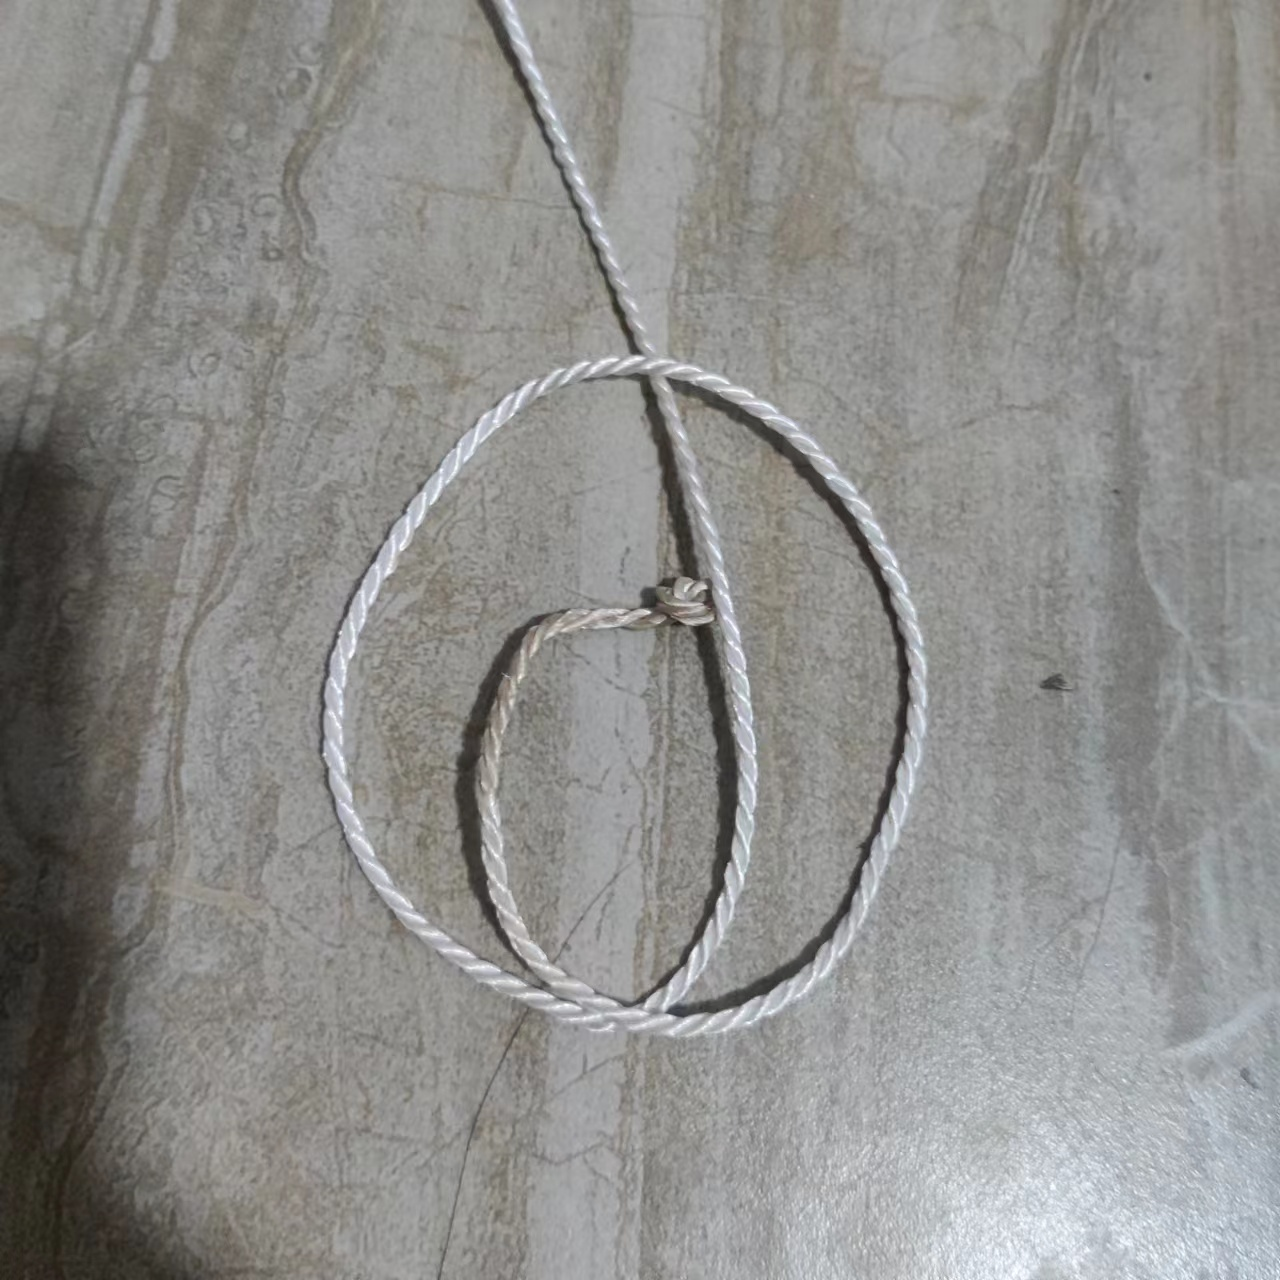9/可回收垃圾/绳子: (313, 1, 930, 1044)
